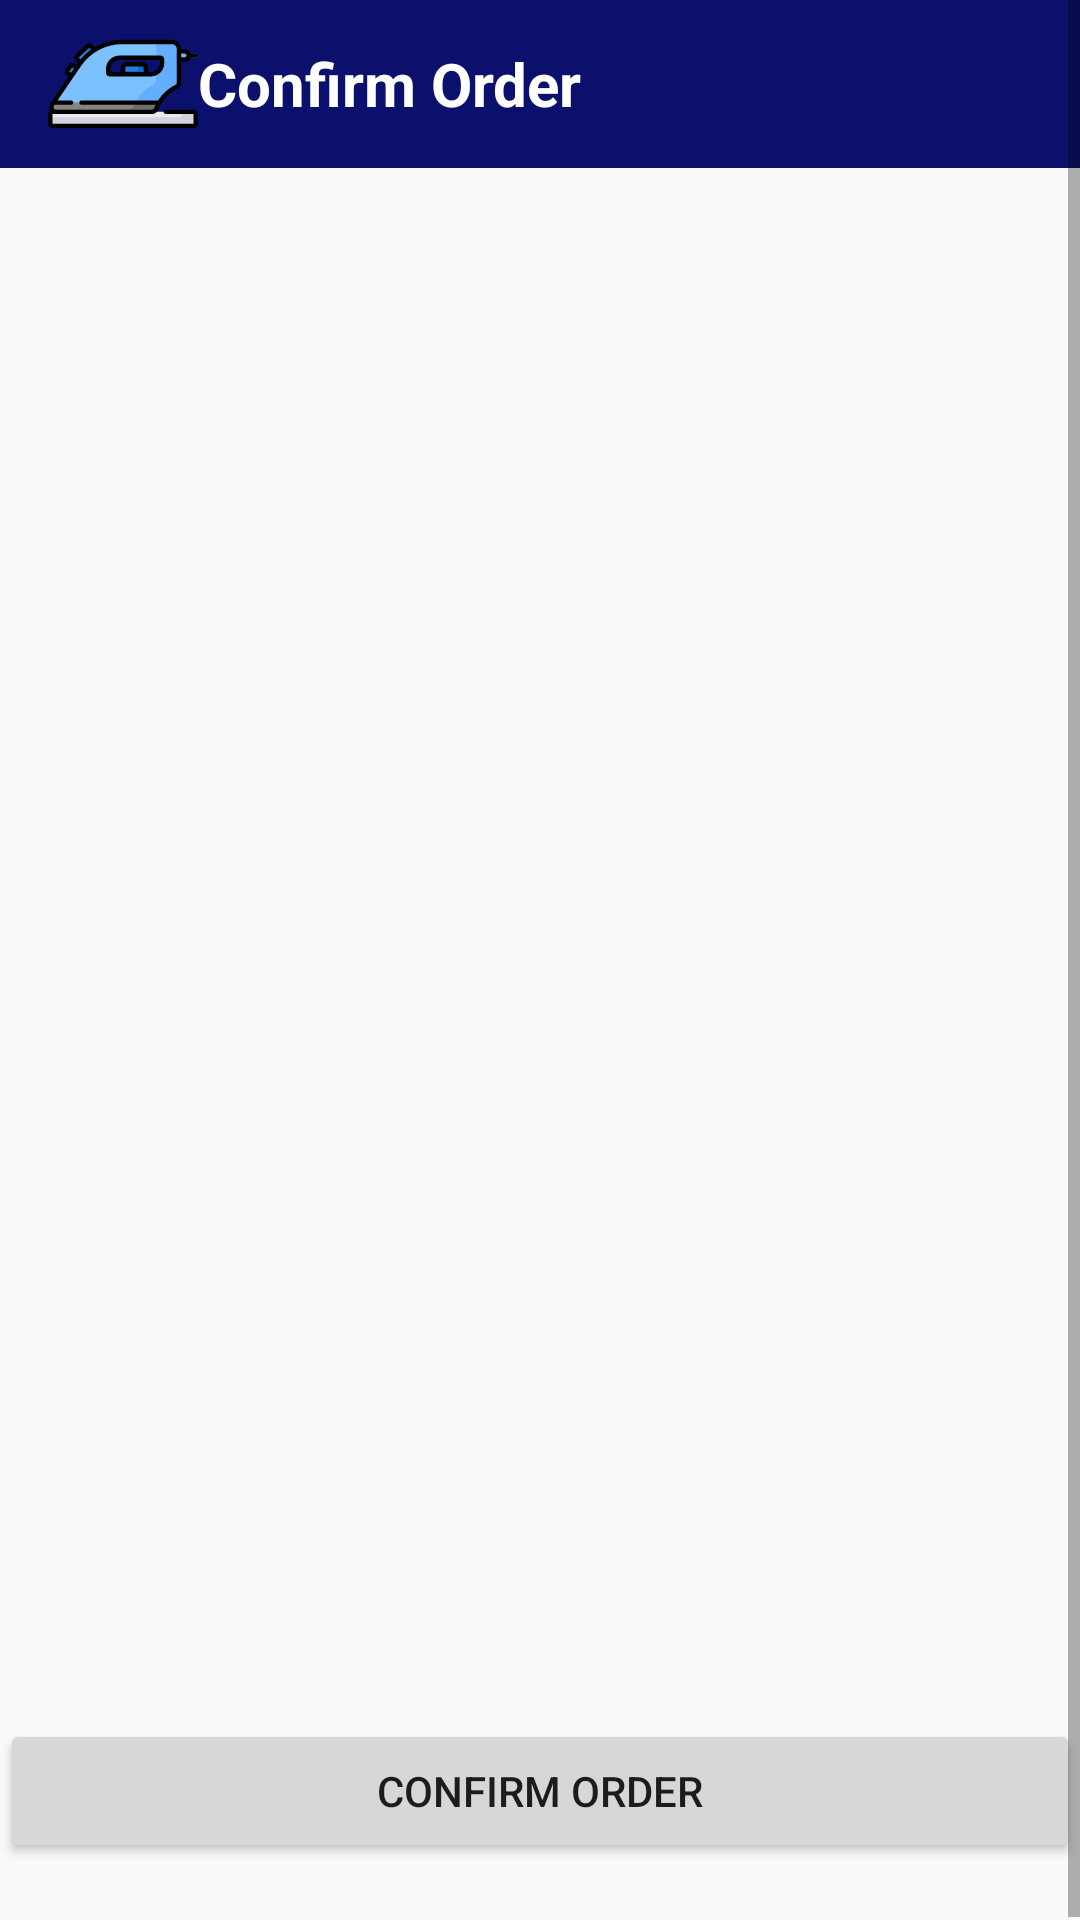

Named icons in this screenshot (1080 x 1920) and their bounding boxes, [x1,y1,x2,y2]:
iron: [48,39,198,128]
